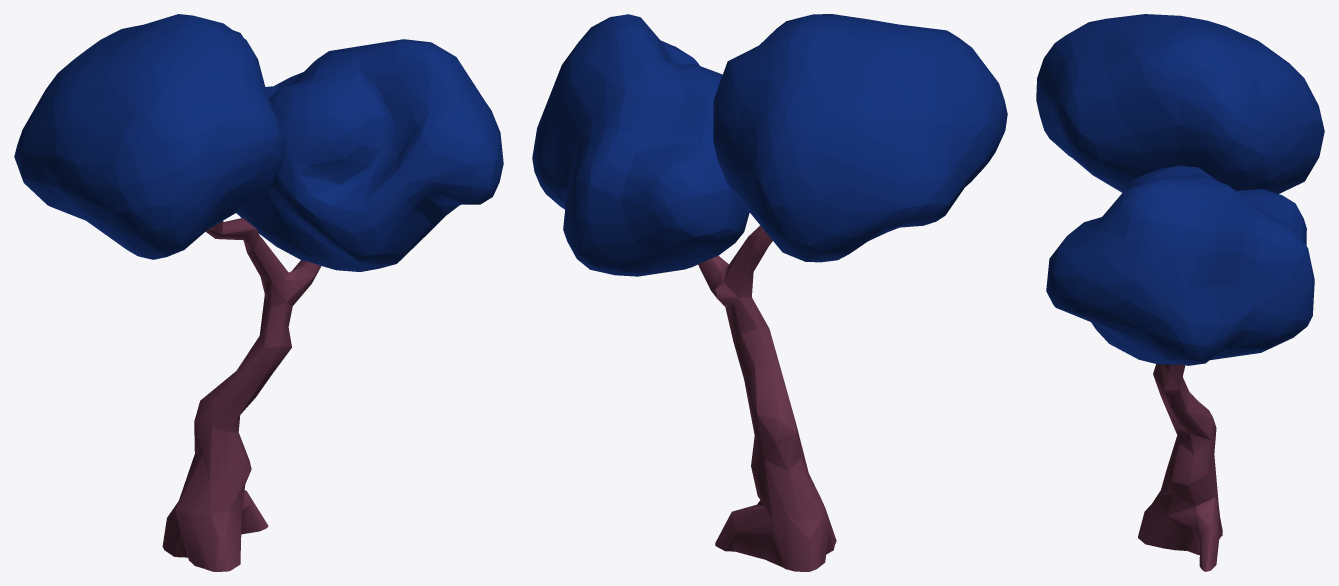
The model's file is tree 2.fbx.
3 views of the same model, side by side, from view 1: azimuth 30°, elevation 25°; view 2: azimuth 150°, elevation 25°; view 3: azimuth 270°, elevation 25° (orthographic). The views are drawn at different scales.
Parts seen in each view (by area): view 1: tree_2; view 2: tree_2; view 3: tree_2.
Boxes of the visible parts, bbox=[...] form: tree_2: bbox=[14, 14, 503, 571]; tree_2: bbox=[532, 14, 1007, 571]; tree_2: bbox=[1036, 14, 1324, 571].
Size of the model in its own units: 5.08 by 3.15 by 6.01.
